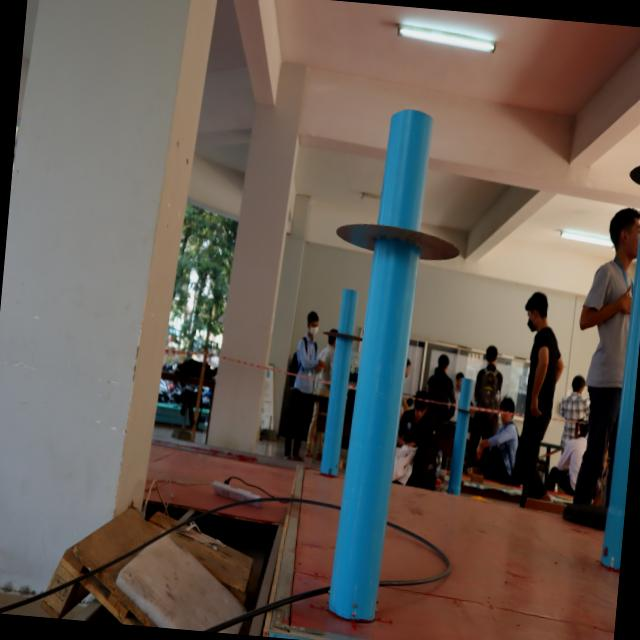pole: (324, 102, 477, 332), (322, 286, 366, 388), (450, 374, 481, 432)
